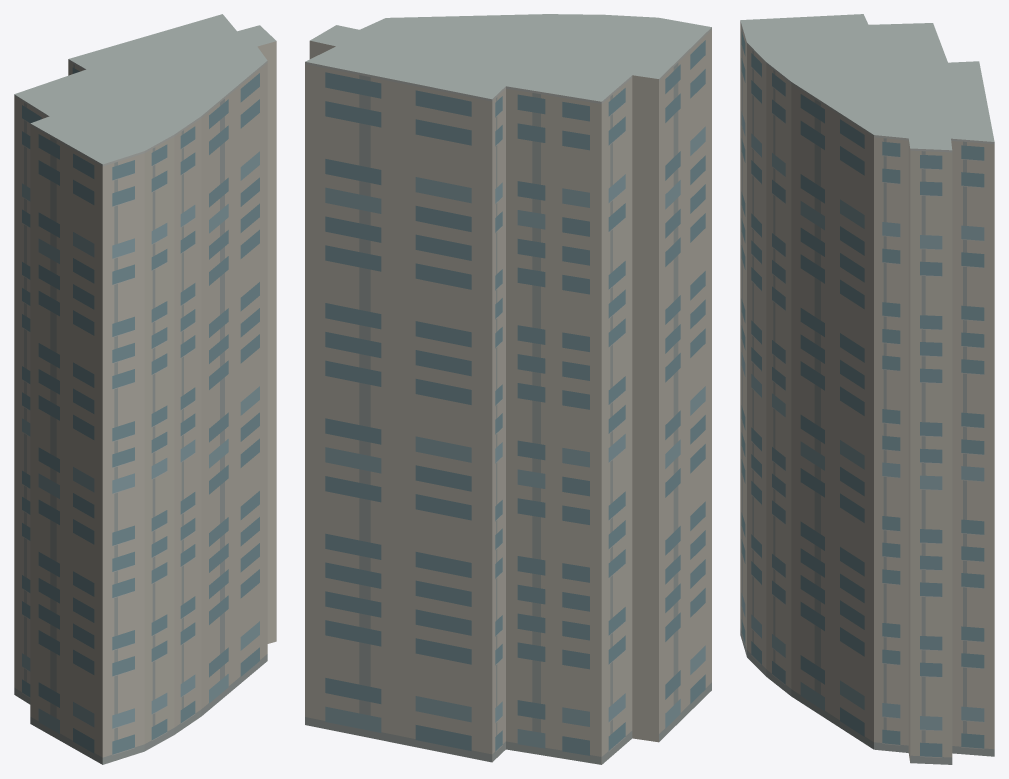
File: residential-2fe3f2e7-bbbd-4c1b-b7f9-f0a022774d86.glb
3 renders of one model, left to right at view 1: azimuth 30°, elevation 25°; view 2: azimuth 150°, elevation 25°; view 3: azimuth 270°, elevation 25°, orthographic. The views are drawn at different scales.
Visible parts, largest first — view 1: residential-2fe3f2e7-bbbd-4c1b-b7f9-f0a022774d86.tmp; view 2: residential-2fe3f2e7-bbbd-4c1b-b7f9-f0a022774d86.tmp; view 3: residential-2fe3f2e7-bbbd-4c1b-b7f9-f0a022774d86.tmp.
Part boxes in pixels (<box>): residential-2fe3f2e7-bbbd-4c1b-b7f9-f0a022774d86.tmp: <box>14,14,276,764</box>; residential-2fe3f2e7-bbbd-4c1b-b7f9-f0a022774d86.tmp: <box>305,14,711,764</box>; residential-2fe3f2e7-bbbd-4c1b-b7f9-f0a022774d86.tmp: <box>740,14,994,764</box>.
Size of the model in its own units: 33.29 by 70 by 26.26.
